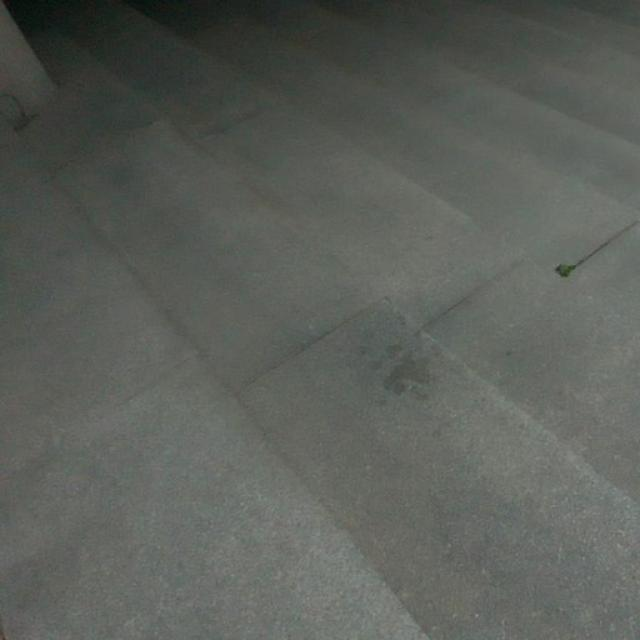stair: (56, 0, 640, 612)
